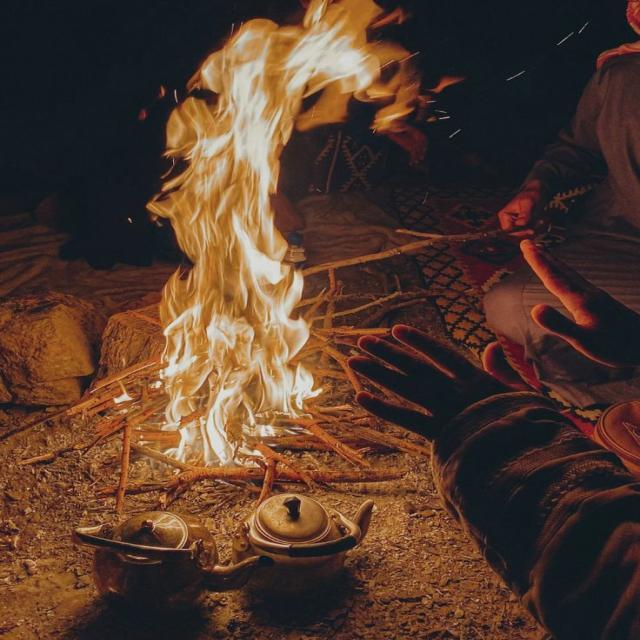Fire: (118, 0, 458, 450)
